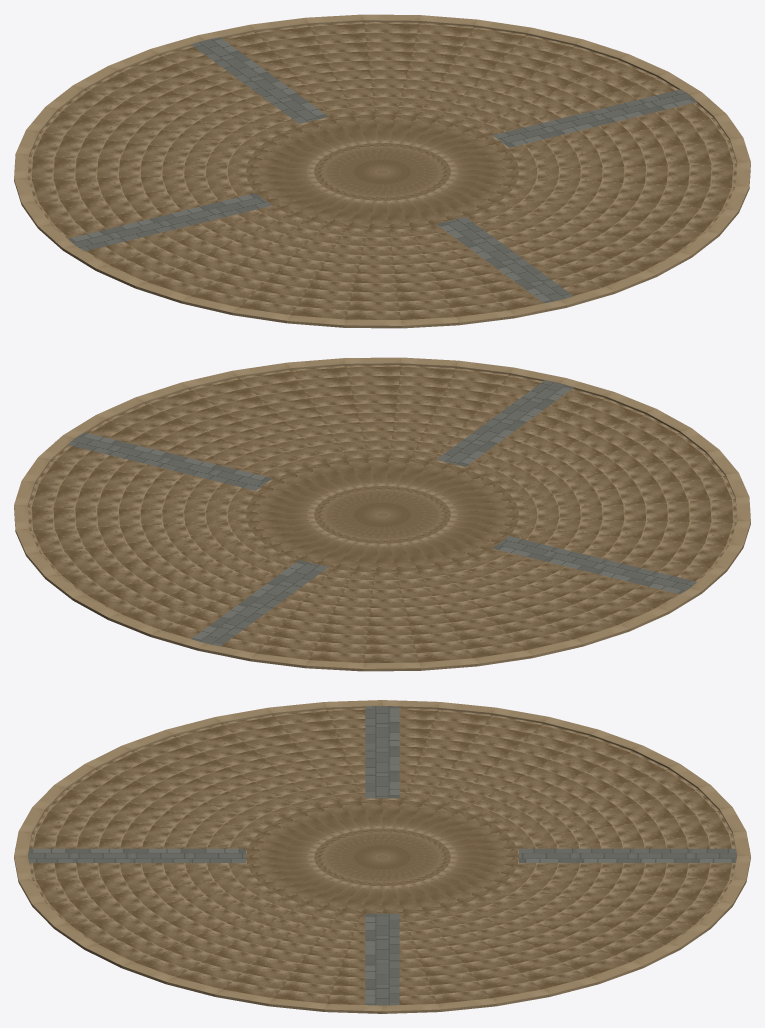
File: village_small_base.glb
The picture shows the model from 3 angles, top to bottom: view 1: azimuth 30°, elevation 25°; view 2: azimuth 150°, elevation 25°; view 3: azimuth 270°, elevation 25°; orthographic projection.
Parts seen in each view (by area): view 1: ae_sand_village_small_base; view 2: ae_sand_village_small_base; view 3: ae_sand_village_small_base.
Boxes of the visible parts, bbox=[...] form: ae_sand_village_small_base: bbox=[14, 14, 750, 328]; ae_sand_village_small_base: bbox=[14, 357, 750, 671]; ae_sand_village_small_base: bbox=[14, 700, 750, 1013].
Bounding box in the file's own units: 1.61 × 0.00608 × 1.61.
Materials: 1 (1 with a texture image).
